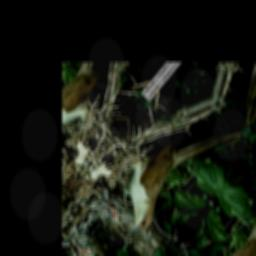Cuckoo: (96, 88, 242, 253)
